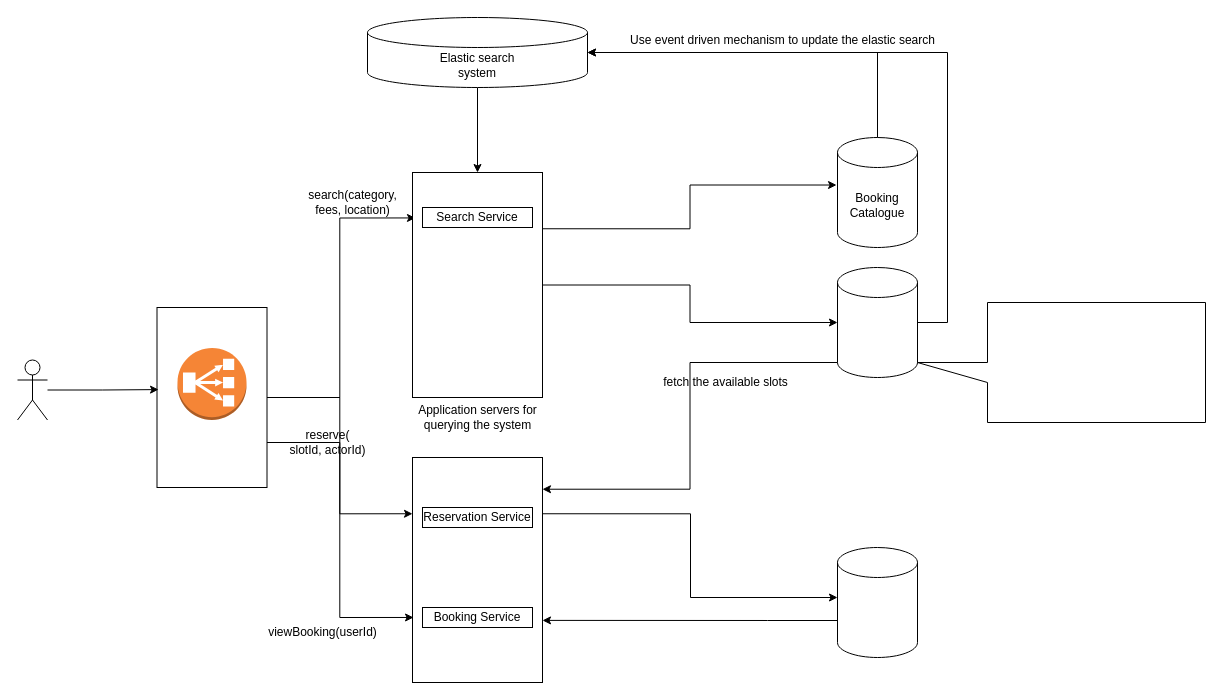
Some shapes in this 1223 by 700 pixel diagram are drawn without their labels. Here are the shapes that lost their labels. From the top down, the centre of each, then its label:
At pixel 877 322: "Booking Inventory".
At pixel 32 389: "client".
At pixel 877 602: "Reservation Table".
